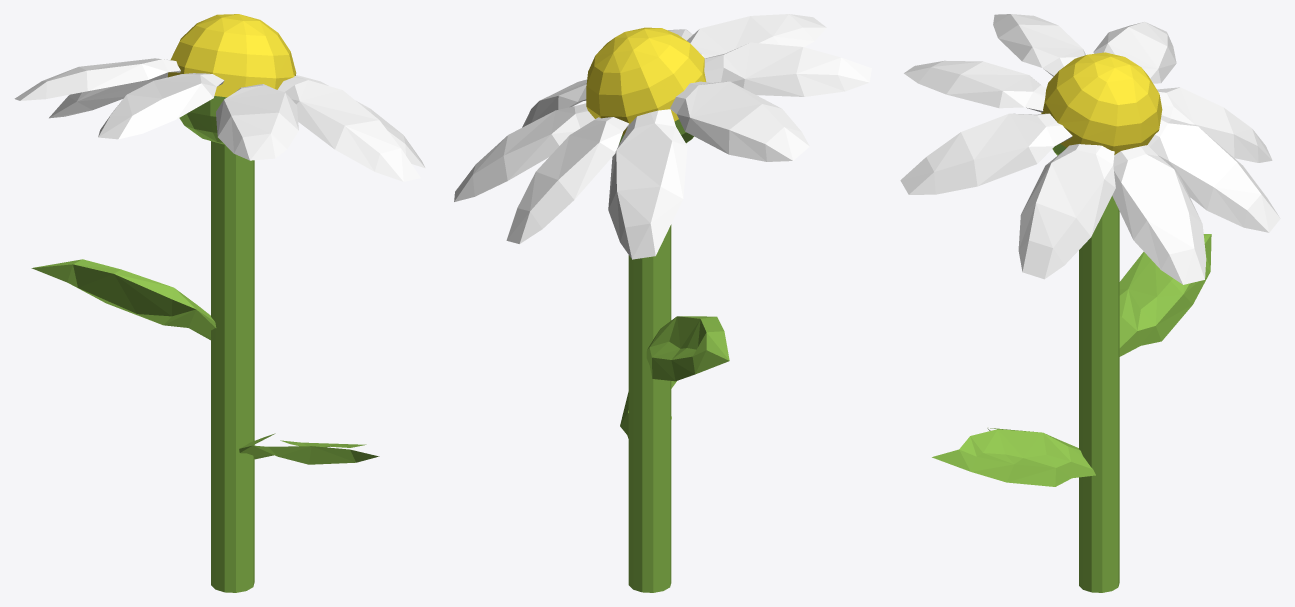
Rendered from daisyJ.glb.
The picture shows the model from 3 angles, left to right: view 1: azimuth 30°, elevation 25°; view 2: azimuth 150°, elevation 25°; view 3: azimuth 270°, elevation 25°; orthographic projection. The views are drawn at different scales.
Parts seen in each view (by area): view 1: Node; view 2: Node; view 3: Node.
Part boxes in pixels (x1,y1,x2,y2): Node: [14, 14, 425, 592]; Node: [454, 14, 871, 592]; Node: [900, 14, 1280, 592].
Bounding box in the file's own units: 0.1823 × 0.2816 × 0.1847.
